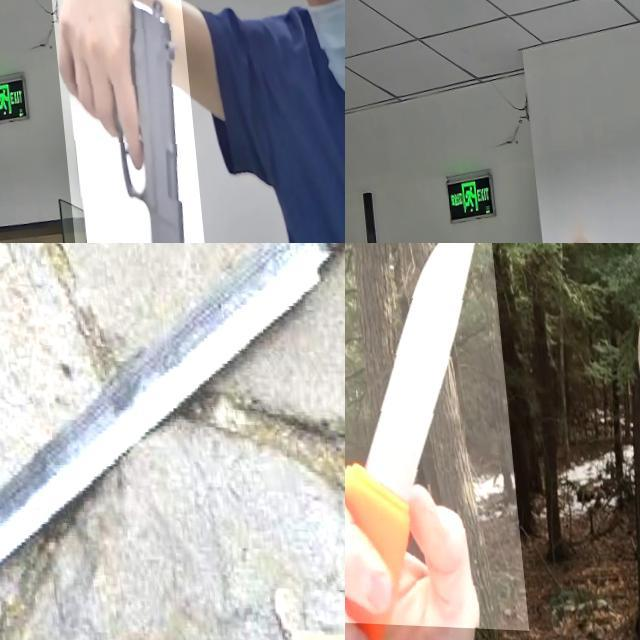-: (0, 243, 345, 640), (345, 243, 519, 628)
gun-knife-thesis - v11 Yolov5 augmented: (43, 0, 198, 243)
